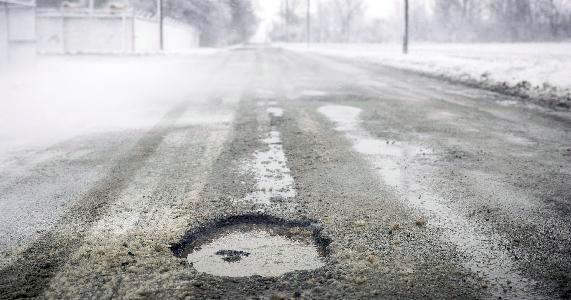pothole: (164, 207, 335, 278)
